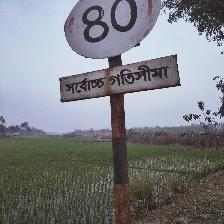Speed-limit: (59, 0, 171, 102)
